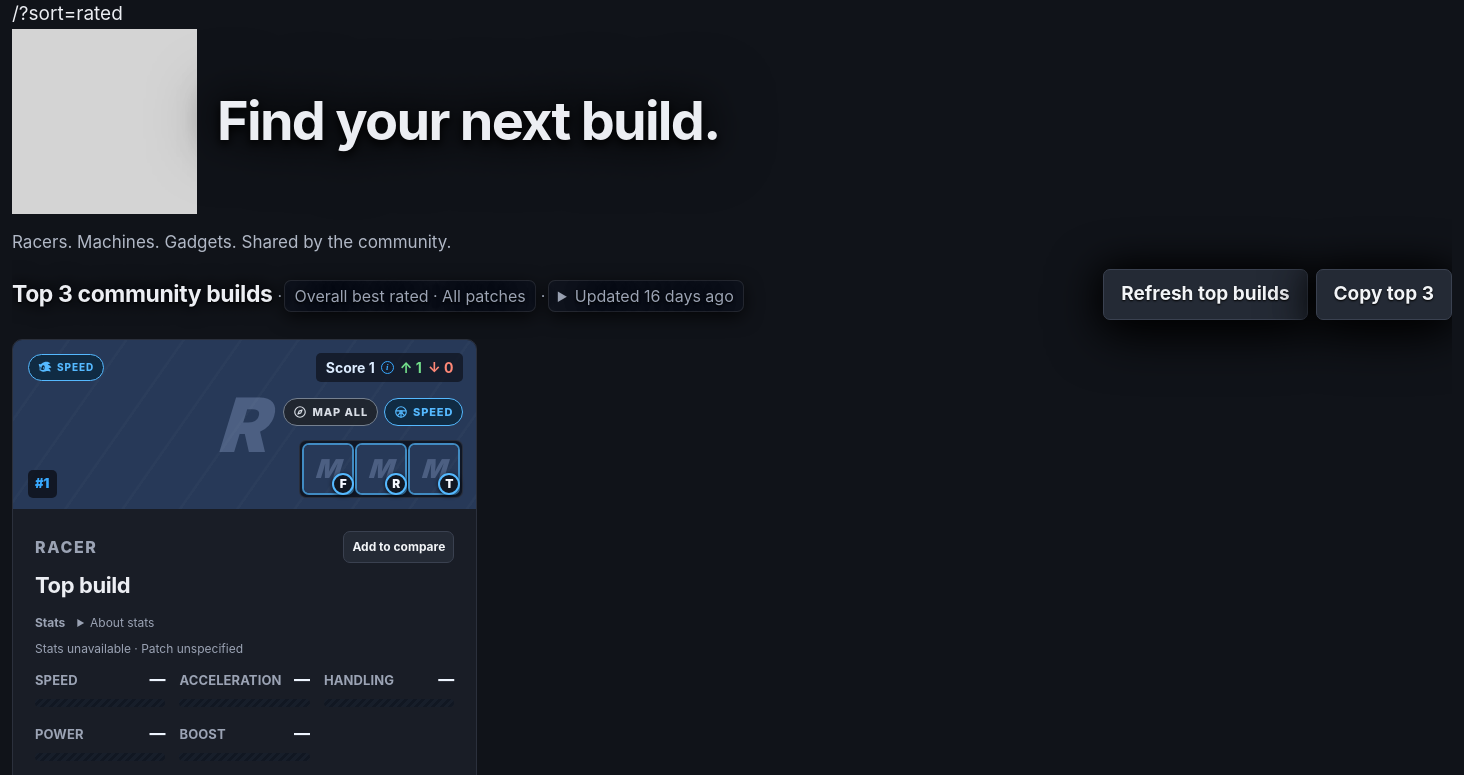
keeps selection across filters, pages, refreshed winners and comparison navigation
Expected: the link "Top build" is shown, 35,572 -> 130,598
Click the button with aria-label "Compare Top build": (399, 546) 343,530 -> 454,562
(page scrolled)
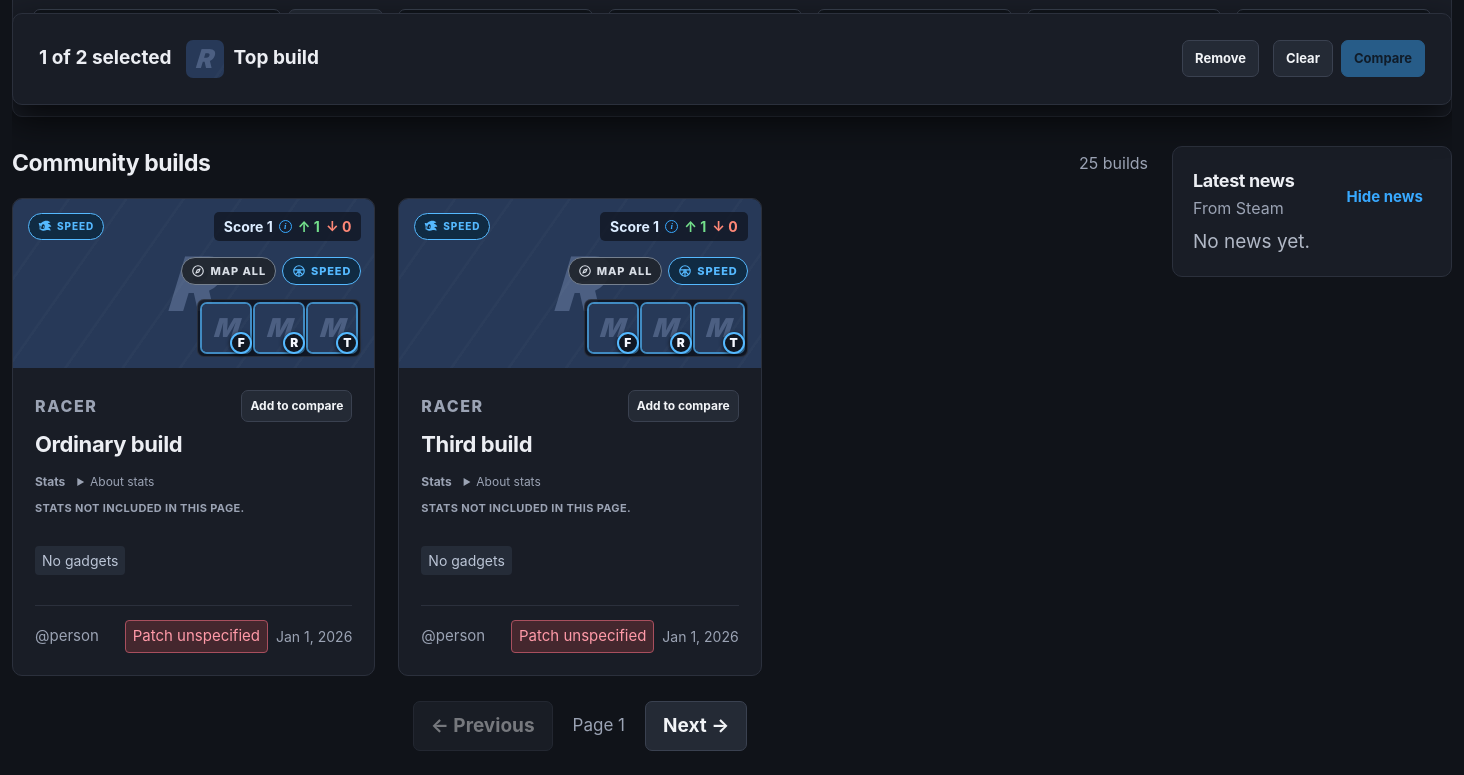
Click the button with aria-label "Compare Ordinary build": (297, 406) 241,390 -> 352,422
(page scrolled)
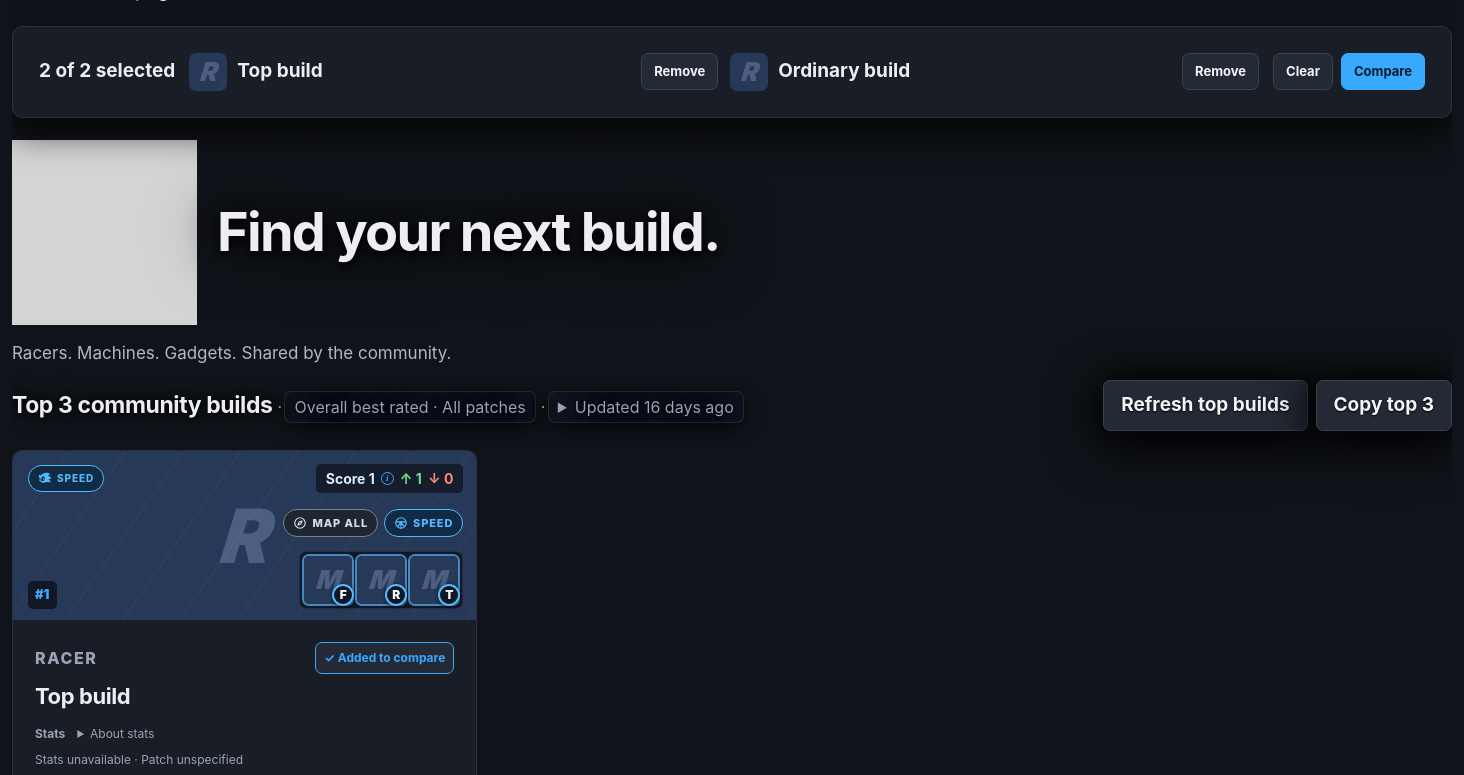
Click the button "Refresh top builds": (1205, 405) 1103,380 -> 1308,430
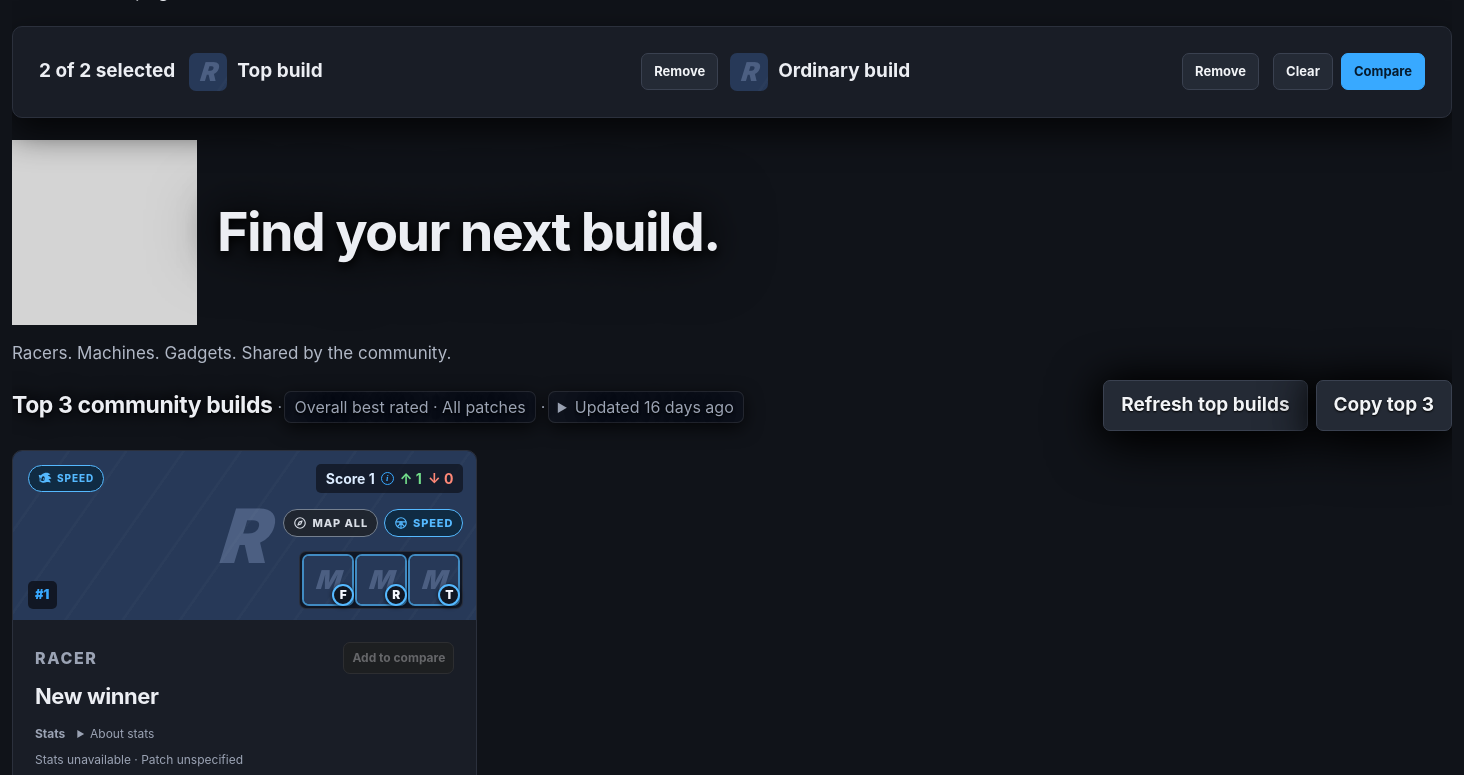
Expected: the text "Top build" is shown, 237,59 -> 323,82
Result: the link "New winner" is shown at 35,682 -> 159,708
Click the button "Compare": (1383, 72) 1341,53 -> 1425,90
(page scrolled)
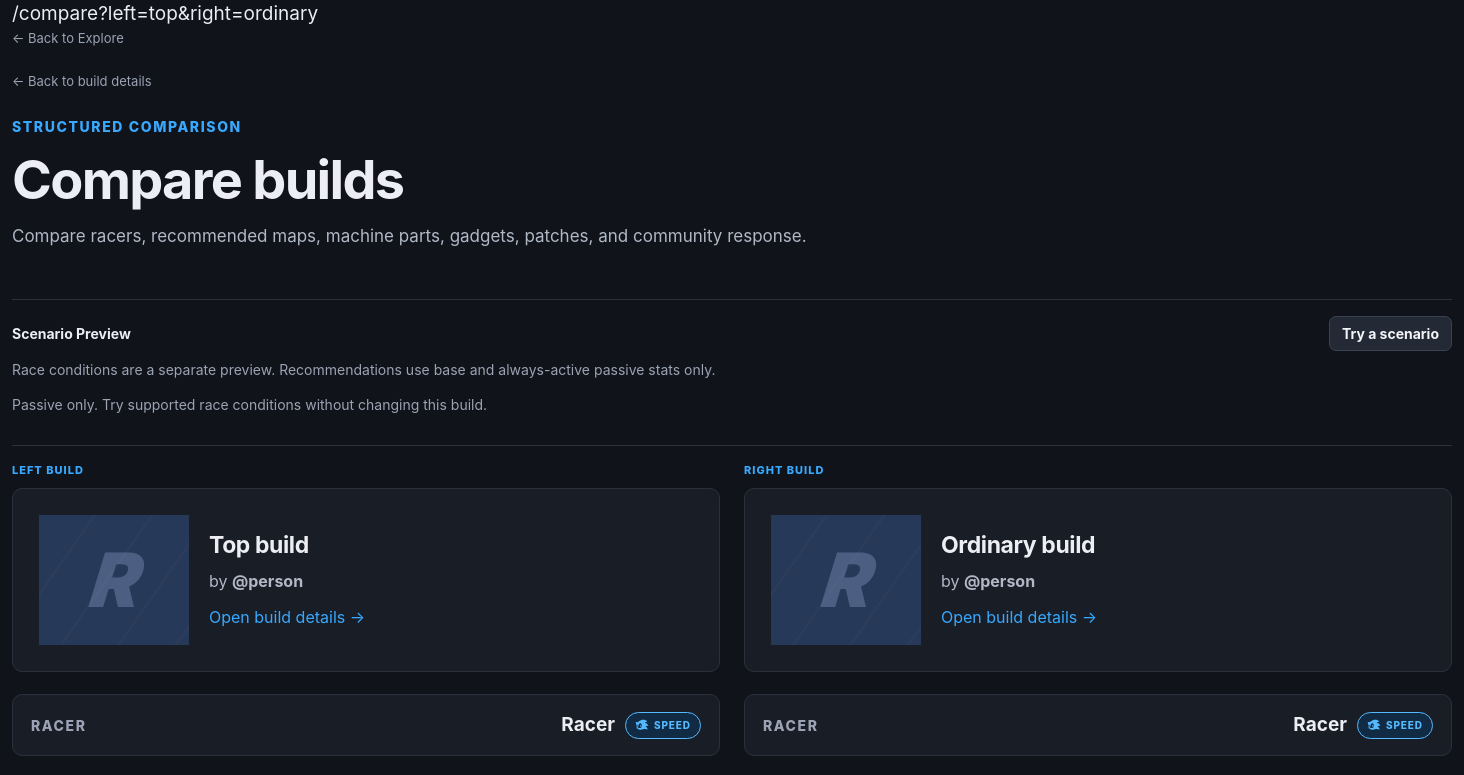
Result: the heading "Compare builds" is shown at 12,146 -> 403,212
Result: the text with test id "location" reads "/compare?left=top&right=ordinary" at 12,2 -> 318,25
Click the link "← Back to Explore": (68, 38) 12,30 -> 124,46
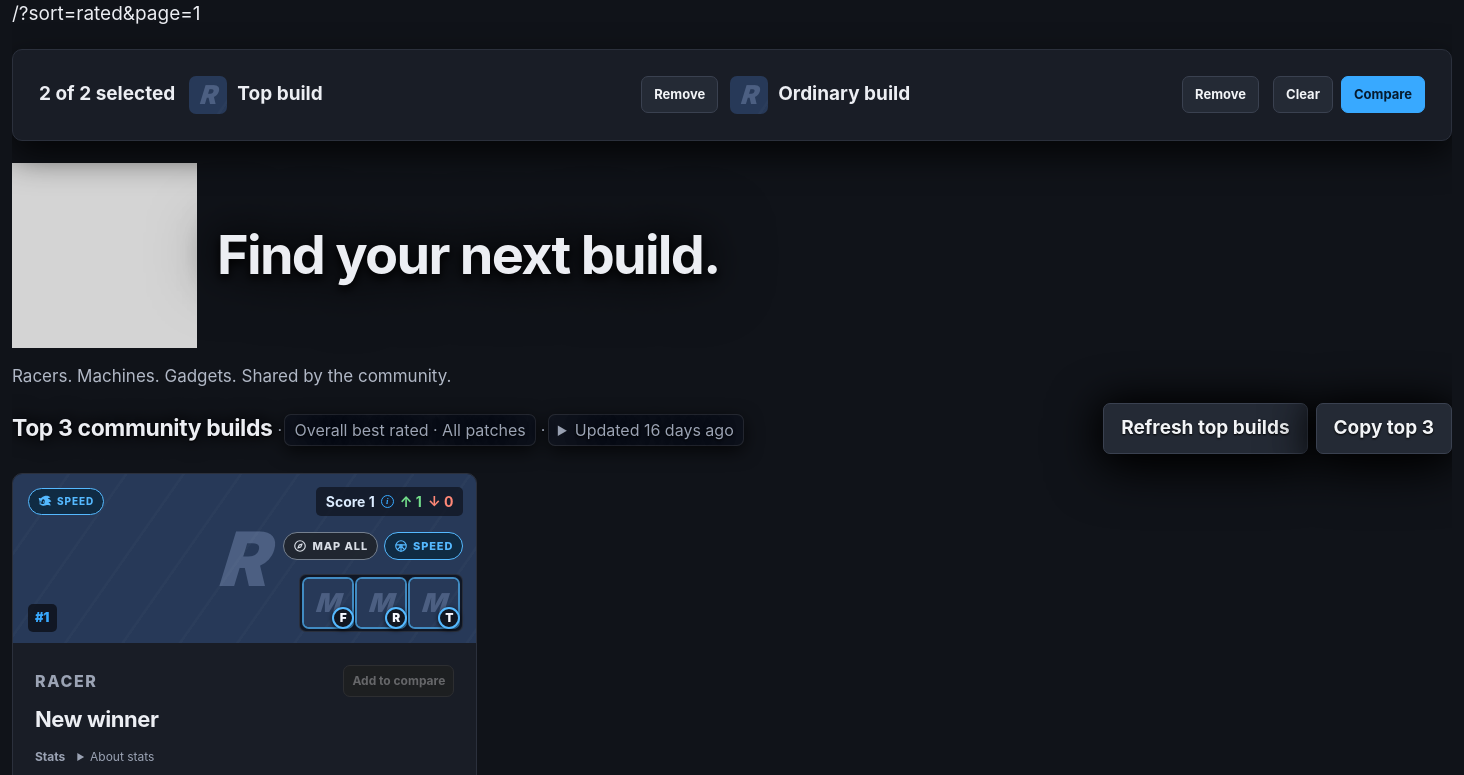
Result: the text with test id "location" reads "/?sort=rated&page=1" at 19,2 -> 201,25
